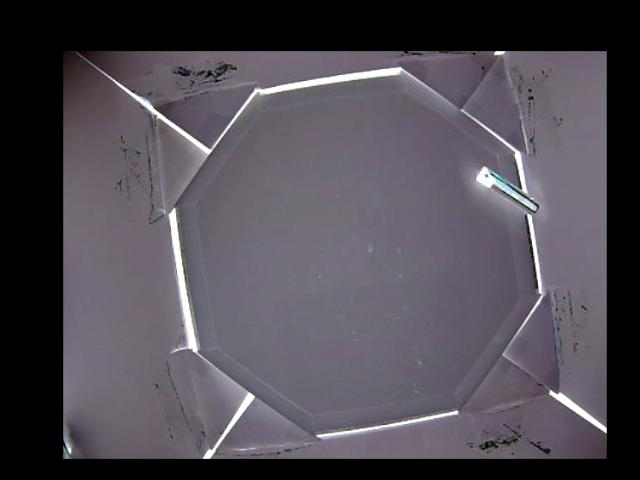Battery: (473, 164, 538, 215)
